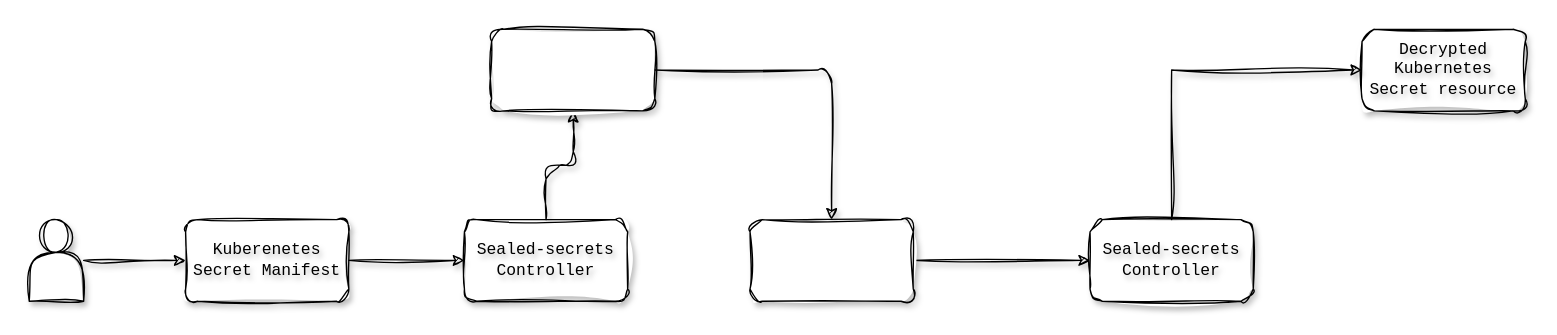
Some shapes in this 1557 by 335 pixel diagram are drawn without their labels. The shapes that lost their labels are listed below. From the top down, each one's centre as x and y in pixels, then its label:
At [574,71]: "Encrypted Secret Manifest".
At [832,262]: "Version Control".
